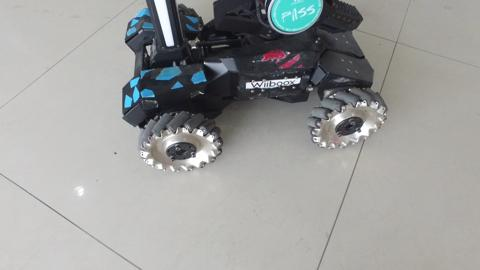chariot: (110, 10, 362, 162)
